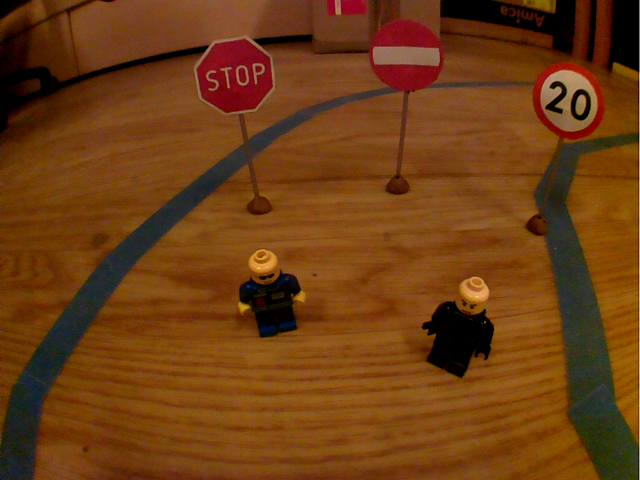Ograniczenie 20: (527, 58, 609, 144)
Postac LEGO: (416, 272, 501, 388), (232, 245, 310, 347)
Stop: (191, 31, 280, 123)
Zakaz: (365, 14, 449, 98)
